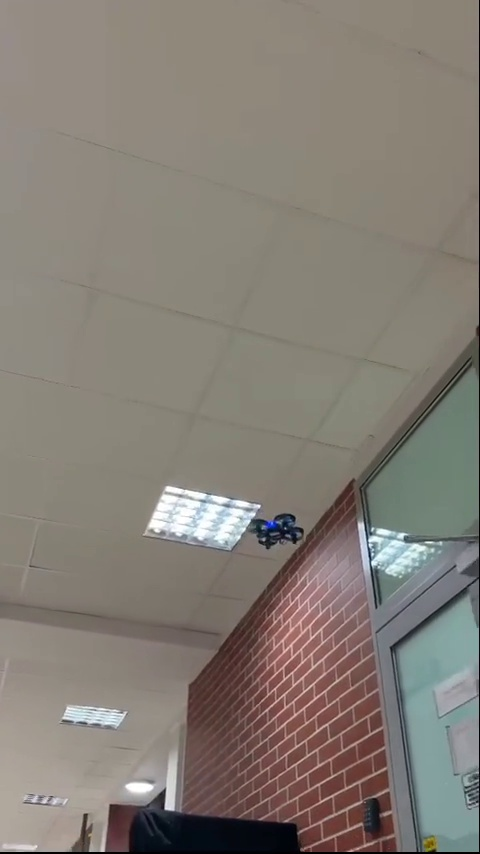drone: (252, 512, 306, 551)
